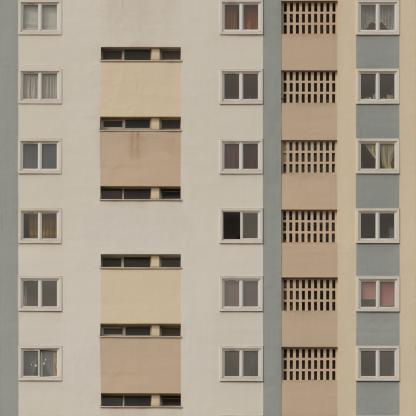Building Outline: (0, 0, 415, 415)
Facade: (0, 0, 416, 416)
Floor: (0, 344, 415, 409), (0, 68, 415, 133), (0, 139, 415, 202), (0, 276, 415, 338), (0, 208, 415, 269), (0, 0, 414, 61)
Floor Slab: (0, 61, 415, 68), (0, 409, 415, 416), (0, 338, 415, 345), (0, 269, 415, 276), (0, 132, 415, 139), (0, 202, 415, 208)
Window: (282, 347, 337, 380), (282, 140, 337, 173), (282, 2, 337, 34), (282, 71, 337, 103), (282, 210, 337, 242), (282, 278, 337, 310), (360, 349, 398, 378), (360, 3, 398, 32), (360, 71, 398, 100), (360, 142, 398, 171), (360, 212, 398, 241), (360, 279, 398, 308), (21, 348, 59, 377), (21, 2, 59, 31), (21, 71, 59, 100), (21, 141, 59, 170), (21, 211, 59, 240), (21, 279, 59, 308), (222, 348, 260, 377), (222, 2, 260, 31), (222, 71, 260, 100), (222, 141, 260, 170), (222, 211, 260, 240), (222, 279, 260, 308), (100, 117, 151, 130), (100, 186, 151, 199), (100, 254, 151, 267), (102, 47, 152, 60), (100, 394, 151, 406), (100, 324, 151, 336), (160, 393, 180, 406), (160, 47, 180, 60), (160, 186, 180, 199), (160, 254, 180, 267), (160, 117, 180, 129), (160, 324, 180, 336), (284, 349, 287, 358), (290, 349, 293, 358), (284, 371, 287, 380), (290, 371, 293, 380), (284, 360, 287, 369), (290, 360, 293, 369), (296, 349, 299, 358), (302, 349, 305, 358), (296, 371, 299, 380), (302, 371, 305, 380), (296, 360, 299, 369), (302, 360, 305, 369), (308, 349, 311, 358), (314, 349, 317, 358), (308, 371, 311, 380), (314, 371, 317, 380), (308, 360, 311, 369), (314, 360, 317, 369), (320, 349, 323, 358), (326, 349, 329, 358), (320, 371, 323, 380), (326, 371, 329, 380), (320, 360, 323, 369), (326, 360, 329, 369), (284, 25, 287, 34), (290, 25, 293, 34), (284, 14, 287, 23), (290, 14, 293, 23), (296, 25, 299, 34), (302, 25, 305, 34), (296, 14, 299, 23), (302, 14, 305, 23), (308, 25, 311, 34), (314, 25, 317, 34), (308, 14, 311, 23), (314, 14, 317, 23), (320, 25, 323, 34), (326, 25, 329, 34), (320, 14, 323, 23), (326, 14, 329, 23), (284, 3, 287, 11), (290, 3, 293, 11), (296, 3, 299, 11), (302, 3, 305, 11), (308, 3, 311, 11), (314, 3, 317, 11), (320, 3, 323, 11), (326, 3, 329, 11), (296, 72, 299, 80), (296, 94, 299, 102), (296, 83, 299, 91), (308, 72, 311, 80), (314, 72, 317, 80), (308, 94, 311, 102), (314, 94, 317, 102), (308, 83, 311, 91), (314, 83, 317, 91), (320, 72, 323, 80), (326, 72, 329, 80), (320, 94, 323, 102), (326, 94, 329, 102), (320, 83, 323, 91), (326, 83, 329, 91), (332, 142, 335, 150), (332, 164, 335, 172), (332, 153, 335, 161), (320, 142, 323, 150), (326, 142, 329, 150), (320, 164, 323, 172), (326, 164, 329, 172), (320, 153, 323, 161), (326, 153, 329, 161), (332, 212, 335, 220), (332, 234, 335, 242), (332, 223, 335, 231), (289, 212, 292, 220), (289, 234, 292, 242), (289, 223, 292, 231), (284, 280, 287, 288), (290, 280, 293, 288), (284, 302, 287, 310), (290, 302, 293, 310), (284, 291, 287, 299), (290, 291, 293, 299), (296, 280, 299, 288), (302, 280, 305, 288), (296, 302, 299, 310), (302, 302, 305, 310), (296, 291, 299, 299), (302, 291, 305, 299), (308, 280, 311, 288), (314, 280, 317, 288), (308, 302, 311, 310), (314, 302, 317, 310), (308, 291, 311, 299), (314, 291, 317, 299), (320, 280, 323, 288), (326, 280, 329, 288), (320, 302, 323, 310), (326, 302, 329, 310), (320, 291, 323, 299), (326, 291, 329, 299), (333, 349, 335, 358), (333, 371, 335, 380), (333, 360, 335, 369), (333, 25, 335, 34), (333, 14, 335, 23), (333, 3, 335, 11), (333, 72, 335, 80), (333, 94, 335, 102), (333, 83, 335, 91), (284, 72, 286, 80), (290, 72, 292, 80), (284, 94, 286, 102), (290, 94, 292, 102), (284, 83, 286, 91), (290, 83, 292, 91), (302, 72, 304, 80), (302, 94, 304, 102), (302, 83, 304, 91), (284, 142, 286, 150), (290, 142, 292, 150), (284, 164, 286, 172), (290, 164, 292, 172), (284, 153, 286, 161), (290, 153, 292, 161), (296, 142, 298, 150), (302, 142, 304, 150), (296, 164, 298, 172), (302, 164, 304, 172), (296, 153, 298, 161), (302, 153, 304, 161), (308, 142, 310, 150), (314, 142, 316, 150), (308, 164, 310, 172), (314, 164, 316, 172), (308, 153, 310, 161), (314, 153, 316, 161), (284, 212, 286, 220), (284, 234, 286, 242), (284, 223, 286, 231), (296, 212, 298, 220), (302, 212, 304, 220), (296, 234, 298, 242), (302, 234, 304, 242), (296, 223, 298, 231), (302, 223, 304, 231), (308, 212, 310, 220), (314, 212, 316, 220), (308, 234, 310, 242), (314, 234, 316, 242), (308, 223, 310, 231), (314, 223, 316, 231), (320, 212, 322, 220), (326, 212, 328, 220), (320, 234, 322, 242), (326, 234, 328, 242), (320, 223, 322, 231), (326, 223, 328, 231), (333, 280, 335, 288), (333, 302, 335, 310), (333, 291, 335, 299)
